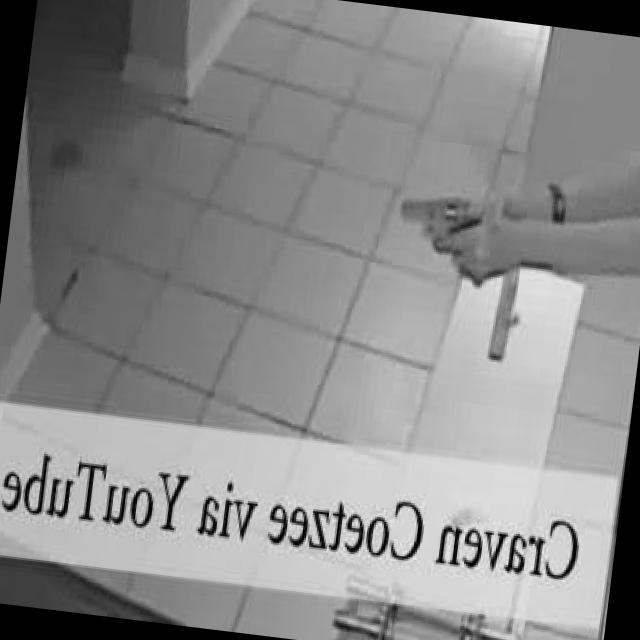Guns: (384, 170, 505, 268)
